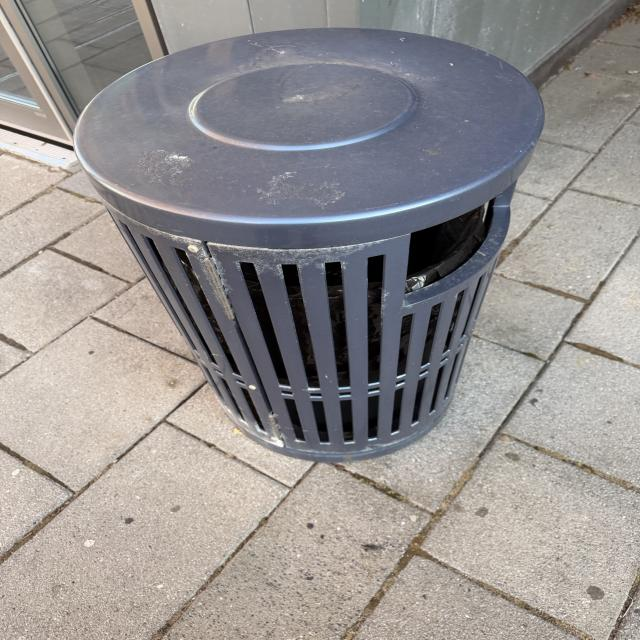Dustbin: (71, 28, 544, 463)
